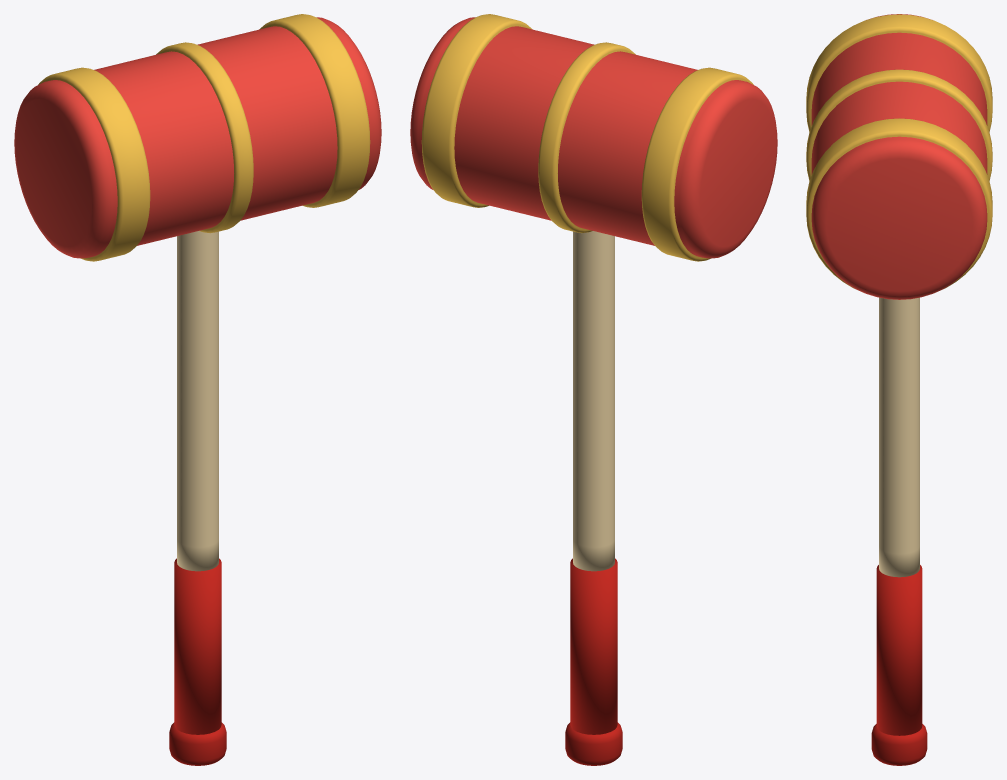
The model's file is hammer_akadaru.fbx.
3 views of the same model, side by side, from view 1: azimuth 30°, elevation 25°; view 2: azimuth 150°, elevation 25°; view 3: azimuth 270°, elevation 25° (orthographic). The views are drawn at different scales.
Parts seen in each view (by area): view 1: akadaru_hammer; view 2: akadaru_hammer; view 3: akadaru_hammer.
Part boxes in pixels (x1,y1,x2,y2): akadaru_hammer: (14,14,381,765); akadaru_hammer: (410,14,777,765); akadaru_hammer: (806,14,992,765).
Bounding box in the file's own units: 1.1 × 2.58 × 0.636.
